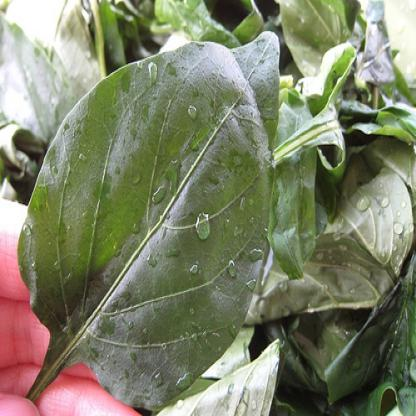Bell_pepper leaf: (16, 28, 283, 406)
